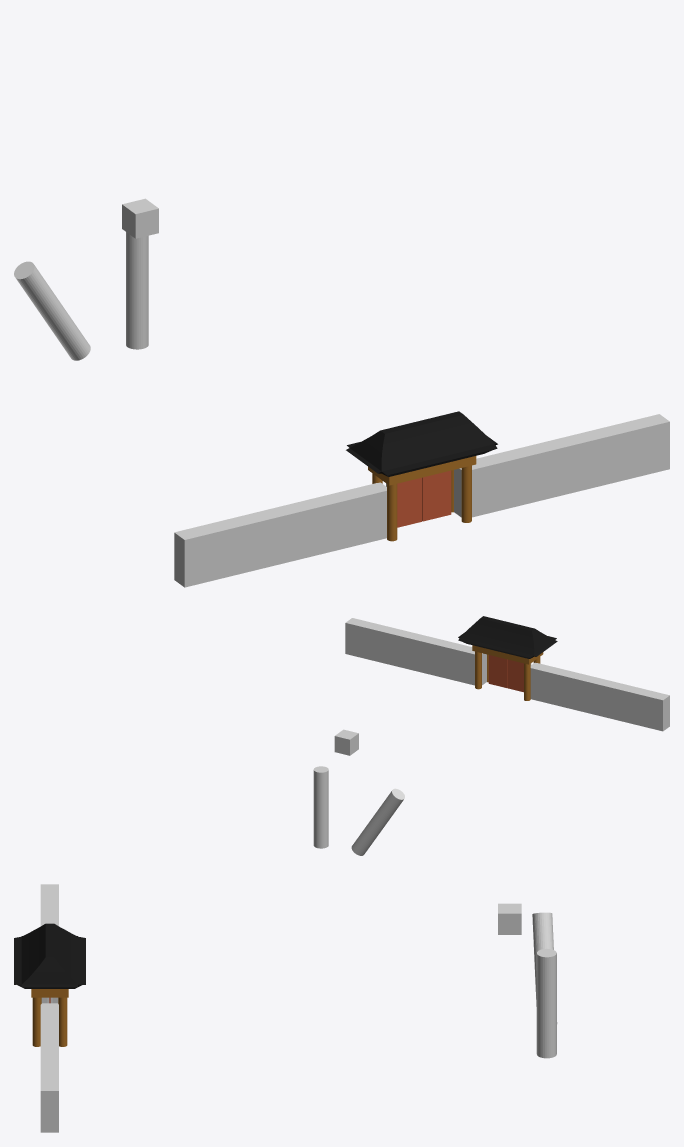
File: proto_01.gltf
3 renders of one model, top to bottom at view 1: azimuth 30°, elevation 25°; view 2: azimuth 150°, elevation 25°; view 3: azimuth 270°, elevation 25°, orthographic. The views are drawn at different scales.
Parts seen in each view (by area): view 1: Cube.004, Cube.002, g2-2, g2-1, Cube.001, Cylinder, g2-3, Cube.003; view 2: Cube.004, Cube.002, g2-1, g2-2, Cube.001, Cylinder, g2-3, Cube.003; view 3: Cube.002, Cube.004, g2-1, Cylinder, g2-2, g2-3.
Part boxes in pixels (x1=…): Cube.004: x1=174, y1=414, x2=669, y2=587; Cube.002: x1=346, y1=411, x2=497, y2=476; g2-2: x1=14, y1=261, x2=90, y2=360; g2-1: x1=126, y1=232, x2=148, y2=349; Cube.001: x1=397, y1=470, x2=451, y2=527; Cylinder: x1=372, y1=465, x2=471, y2=541; g2-3: x1=122, y1=198, x2=158, y2=238; Cube.003: x1=368, y1=456, x2=476, y2=485; Cube.004: x1=345, y1=618, x2=669, y2=731; Cube.002: x1=458, y1=616, x2=557, y2=658; g2-1: x1=313, y1=766, x2=328, y2=848; g2-2: x1=351, y1=788, x2=404, y2=855; Cube.001: x1=488, y1=655, x2=523, y2=692; Cylinder: x1=475, y1=651, x2=540, y2=700; g2-3: x1=334, y1=729, x2=358, y2=755; Cube.003: x1=472, y1=645, x2=543, y2=664; Cube.002: x1=14, y1=923, x2=85, y2=988; Cube.004: x1=40, y1=884, x2=58, y2=1132; g2-1: x1=536, y1=948, x2=556, y2=1058; Cylinder: x1=32, y1=997, x2=67, y2=1046; g2-2: x1=532, y1=912, x2=557, y2=1023; g2-3: x1=498, y1=903, x2=521, y2=934.
Size of the model in its own units: 57.57 by 16.15 by 55.43.
